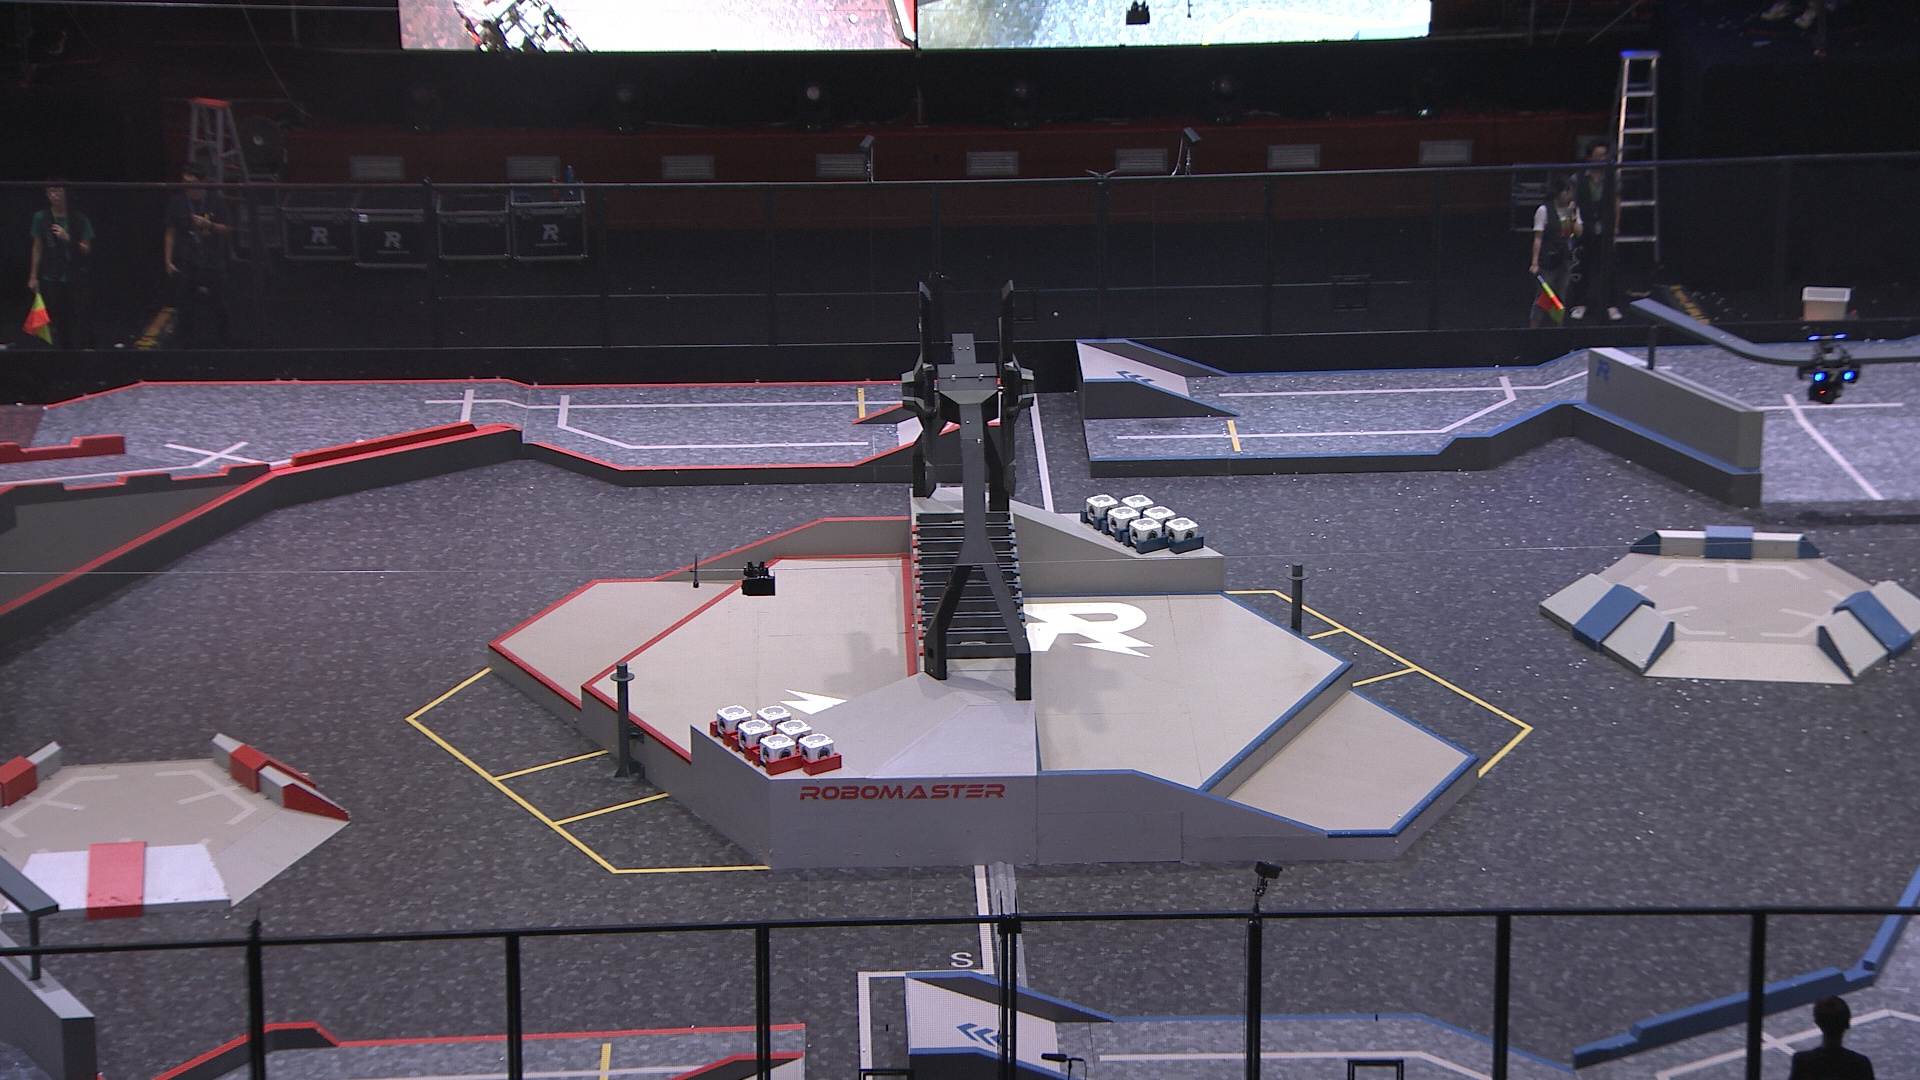armor: (1815, 367, 1855, 385)
watcher: (1797, 320, 1865, 407)
